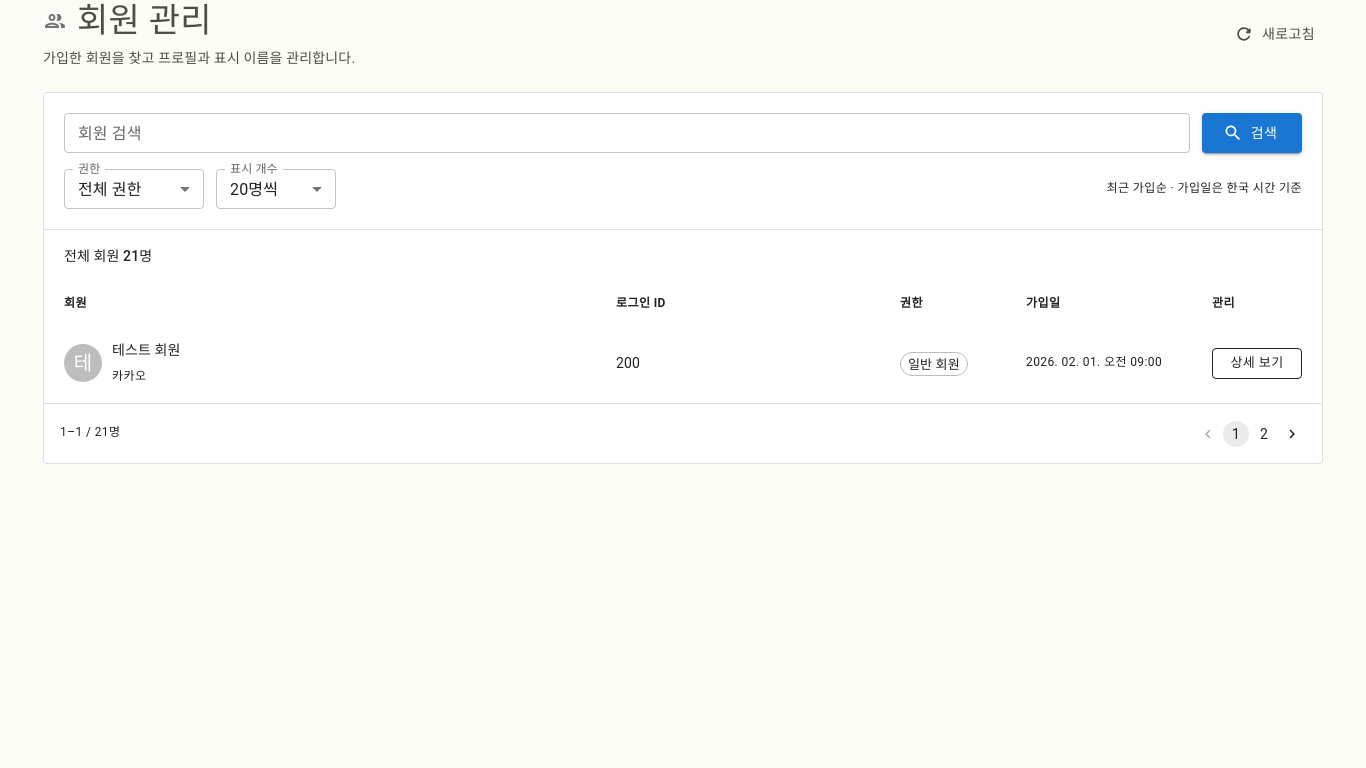
Test: member management › loads detail, saves a normalized name and refreshes the list
The image size is (1366, 768).
Click the button with aria-label "테스트 회원 상세 보기".
click(1257, 363)  # box [1212, 348, 1302, 379]
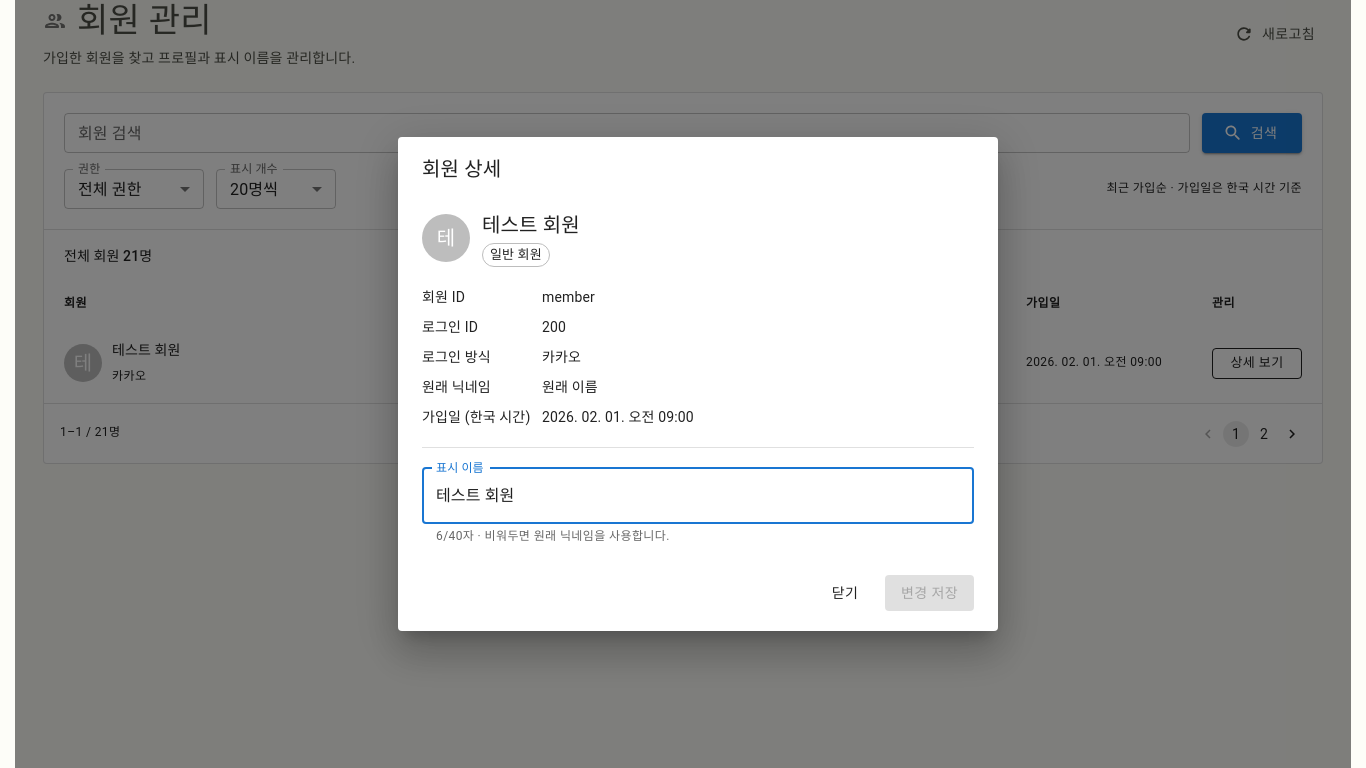
Now the text "원래 이름" is shown, box [542, 379, 598, 395]
Now the button "변경 저장" is disabled, box [885, 575, 974, 611]
Replace the text in the field labelled "표시 이름" with "  새 이름  " at x=698, y=496, box [422, 468, 974, 524]
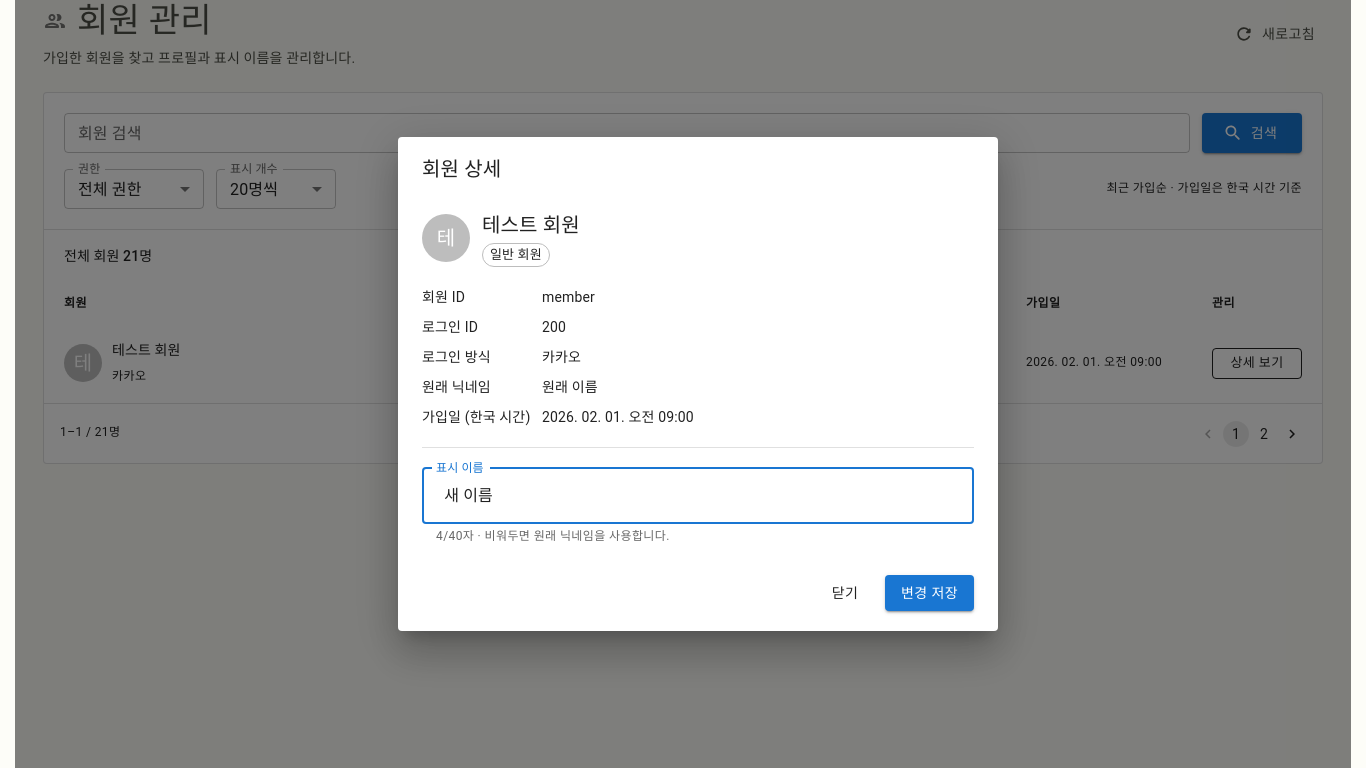
Click the button "변경 저장".
click(930, 593)  # box [885, 575, 974, 611]
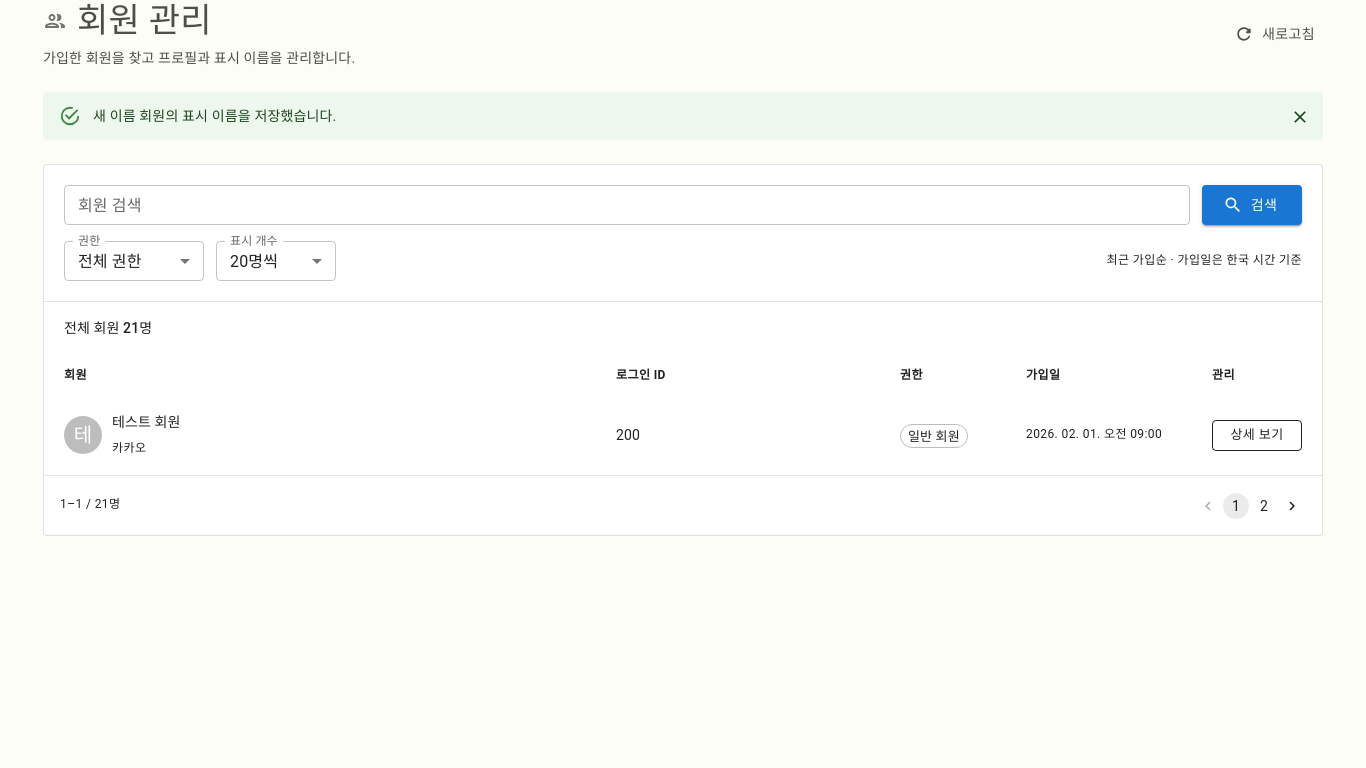
Now the text "새 이름 회원의 표시 이름을 저장했습니다." is shown, box [93, 108, 336, 124]
Now the dialog is gone
